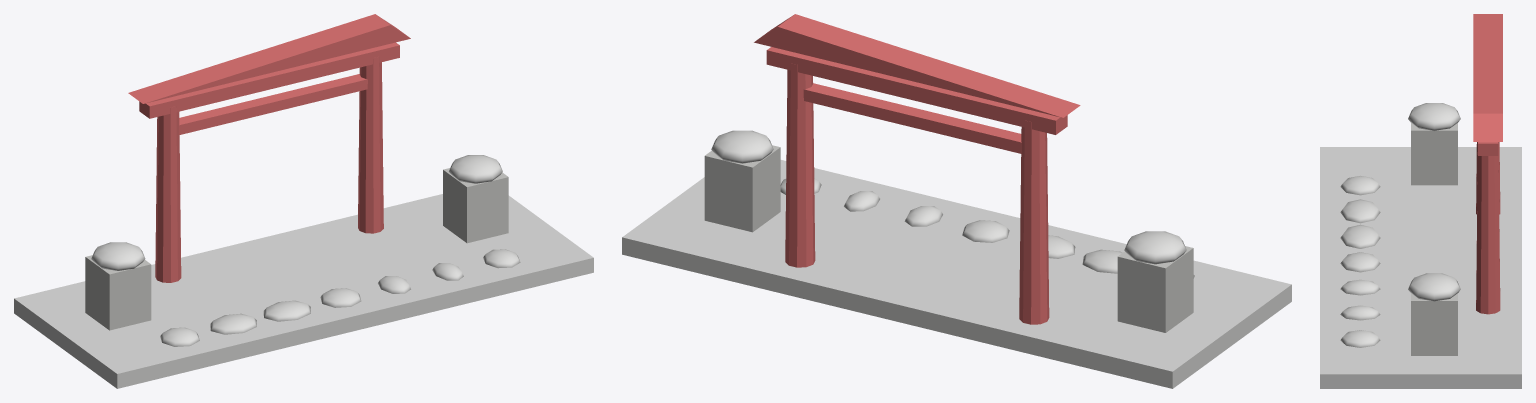
Rendered from martial-arts-dojo-and-fight-stages-snowy-shrine-set-c1d0bd64__18078.glb.
The picture shows the model from 3 angles, left to right: view 1: azimuth 30°, elevation 25°; view 2: azimuth 150°, elevation 25°; view 3: azimuth 270°, elevation 25°; orthographic projection. The views are drawn at different scales.
Visible parts, largest first — view 1: snowy-shrine-set; view 2: snowy-shrine-set; view 3: snowy-shrine-set.
Boxes of the visible parts, x1,y1,x2,y2 form: snowy-shrine-set: (14,14,593,388); snowy-shrine-set: (622,14,1291,388); snowy-shrine-set: (1320,14,1521,388).
Bounding box in the file's own units: 8 × 3.54 × 3.
